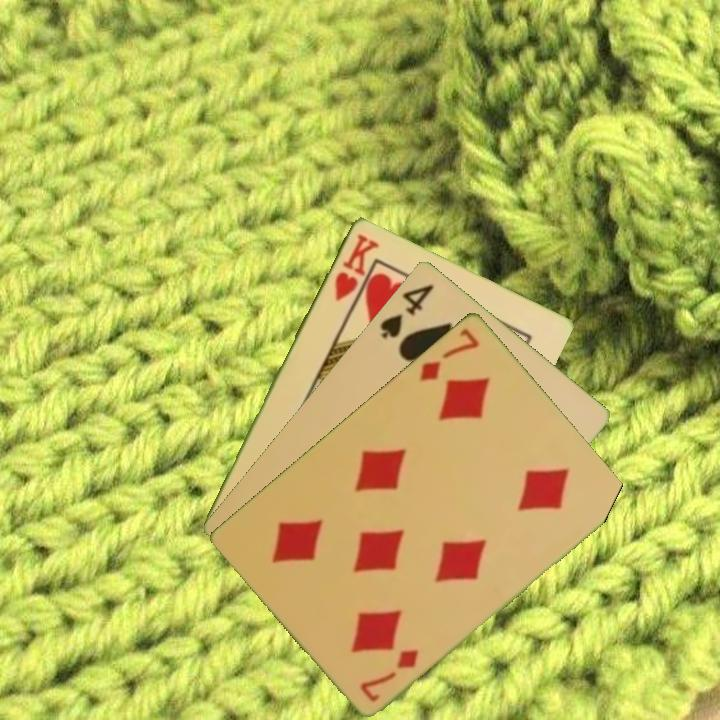4s: (376, 279, 437, 342)
7d: (416, 324, 482, 384), (356, 645, 422, 705)
Kh: (330, 229, 382, 304)
